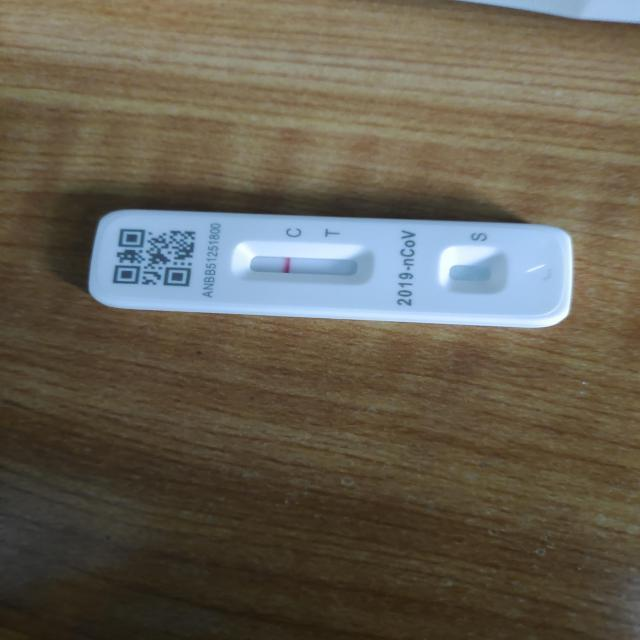qr_code: (112, 228, 195, 287)
